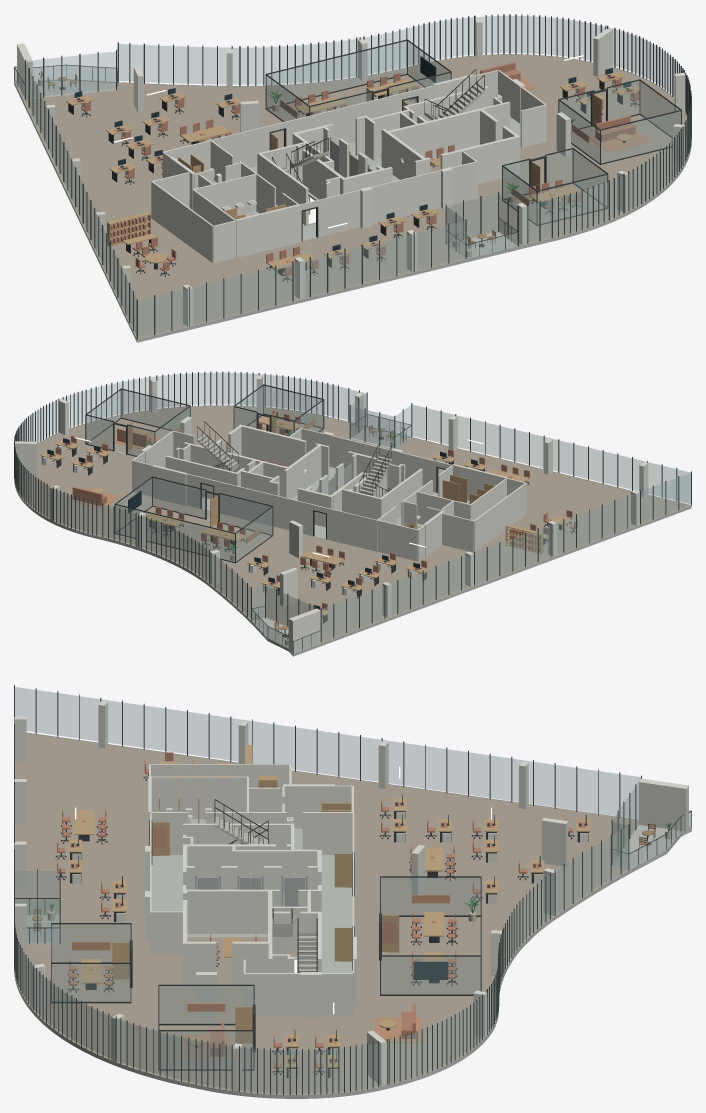
File: office-floor-06-r3.glb
3 renders of one model, top to bottom at view 1: azimuth 30°, elevation 25°; view 2: azimuth 150°, elevation 25°; view 3: azimuth 270°, elevation 25°, orthographic. The views are drawn at different scales.
Visible parts, largest first — view 1: SOURCE FLOOR | registered floor slab, SOURCE TRACED PARTITION | corrected R3 tenant south.001, R3 PROPOSED PARTITION | training-north.002, SOURCE WALL | 57, SOURCE WALL | 170, R3 PROPOSED PARTITION | focus-east.002, SOURCE TRACED PARTITION | service corridor.015, SOURCE TRACED PARTITION | corrected R3 tenant north.001, SOURCE WALL | 60, R3 PROPOSED PARTITION | meeting-south.002, SOURCE FLOOR | slab edge.148, SOURCE TRACED PARTITION | corrected R3 tenant north (+74 smaller); view 2: SOURCE FLOOR | registered floor slab, SOURCE TRACED PARTITION | corrected R3 tenant north.001, R3 PROPOSED PARTITION | training-north.002, SOURCE TRACED PARTITION | corrected R3 tenant south.001, SOURCE WALL | 60, R3 PROPOSED PARTITION | focus-east.002, SOURCE TRACED PARTITION | service corridor.015, SOURCE TRACED PARTITION | corrected R3 tenant north, SOURCE FLOOR | slab edge, R3 PROPOSED PARTITION | meeting-south.002, R3 PROPOSED PARTITION | training-north.004, R3 PROPOSED PARTITION | training-north.003 (+41 smaller); view 3: SOURCE FLOOR | registered floor slab, SOURCE CORRIDOR | circulation finish, R3 PROPOSED PARTITION | training-north.001, SOURCE TRACED PARTITION | service corridor.021, SOURCE WALL | 56, SOURCE TRACED PARTITION | service corridor.010, R3 PROPOSED PARTITION | training-north, R3 PROPOSED PARTITION | focus-east, R3 PROPOSED PARTITION | meeting-south.001, R3 PROPOSED PARTITION | focus-east.001, SOURCE WALL | 169, R3 PROPOSED PARTITION | meeting-south (+54 smaller).
Part boxes in pixels (x1=…): SOURCE FLOOR | registered floor slab: x1=17, y1=54, x2=687, y2=338; SOURCE TRACED PARTITION | corrected R3 tenant south.001: x1=317, y1=161, x2=476, y2=237; R3 PROPOSED PARTITION | training-north.002: x1=267, y1=41, x2=406, y2=107; SOURCE WALL | 57: x1=388, y1=108, x2=482, y2=158; SOURCE WALL | 170: x1=235, y1=204, x2=300, y2=257; R3 PROPOSED PARTITION | focus-east.002: x1=601, y1=111, x2=680, y2=163; SOURCE TRACED PARTITION | service corridor.015: x1=151, y1=181, x2=213, y2=262; SOURCE TRACED PARTITION | corrected R3 tenant north.001: x1=285, y1=93, x2=401, y2=146; SOURCE WALL | 60: x1=440, y1=136, x2=516, y2=184; R3 PROPOSED PARTITION | meeting-south.002: x1=538, y1=175, x2=607, y2=223; SOURCE FLOOR | slab edge.148: x1=137, y1=244, x2=527, y2=342; SOURCE TRACED PARTITION | corrected R3 tenant north: x1=210, y1=125, x2=269, y2=167; SOURCE FLOOR | registered floor slab: x1=19, y1=405, x2=690, y2=648; SOURCE TRACED PARTITION | corrected R3 tenant north.001: x1=214, y1=480, x2=313, y2=535; R3 PROPOSED PARTITION | training-north.002: x1=115, y1=505, x2=234, y2=561; SOURCE TRACED PARTITION | corrected R3 tenant south.001: x1=301, y1=428, x2=436, y2=492; SOURCE WALL | 60: x1=241, y1=425, x2=306, y2=466; R3 PROPOSED PARTITION | focus-east.002: x1=121, y1=390, x2=189, y2=431; SOURCE TRACED PARTITION | service corridor.015: x1=474, y1=483, x2=526, y2=551; SOURCE TRACED PARTITION | corrected R3 tenant north: x1=327, y1=508, x2=377, y2=551; SOURCE FLOOR | slab edge: x1=293, y1=505, x2=691, y2=656; R3 PROPOSED PARTITION | meeting-south.002: x1=264, y1=385, x2=322, y2=427; R3 PROPOSED PARTITION | training-north.004: x1=153, y1=478, x2=204, y2=517; R3 PROPOSED PARTITION | training-north.003: x1=220, y1=494, x2=271, y2=534; SOURCE FLOOR | registered floor slab: x1=15, y1=733, x2=638, y2=1094; SOURCE CORRIDOR | circulation finish: x1=151, y1=855, x2=352, y2=972; R3 PROPOSED PARTITION | training-north.001: x1=381, y1=957, x2=480, y2=994; SOURCE TRACED PARTITION | service corridor.021: x1=244, y1=973, x2=352, y2=1015; SOURCE WALL | 56: x1=183, y1=889, x2=272, y2=933; SOURCE TRACED PARTITION | service corridor.010: x1=151, y1=776, x2=247, y2=819; R3 PROPOSED PARTITION | training-north: x1=381, y1=878, x2=480, y2=915; R3 PROPOSED PARTITION | focus-east: x1=159, y1=986, x2=253, y2=1023; R3 PROPOSED PARTITION | meeting-south.001: x1=52, y1=964, x2=130, y2=1001; R3 PROPOSED PARTITION | focus-east.001: x1=161, y1=1031, x2=253, y2=1068; SOURCE WALL | 169: x1=639, y1=778, x2=688, y2=831; R3 PROPOSED PARTITION | meeting-south: x1=52, y1=924, x2=130, y2=961.
Size of the model in its own units: 49.76 by 5.32 by 39.12.
